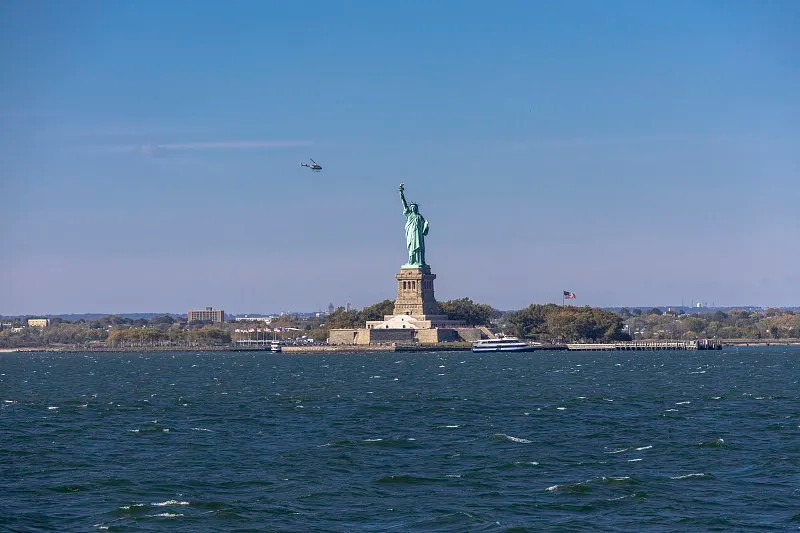SL: (392, 182, 438, 314)
